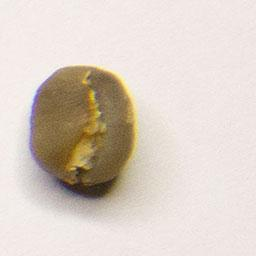peaberry: (25, 61, 140, 192)
